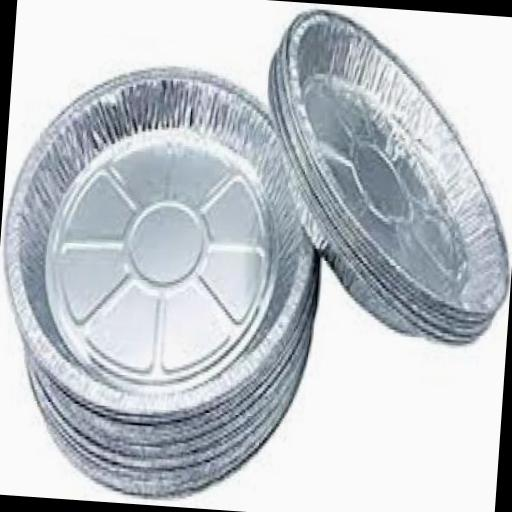metal: (0, 49, 337, 438), (249, 3, 512, 346), (10, 324, 316, 504)
